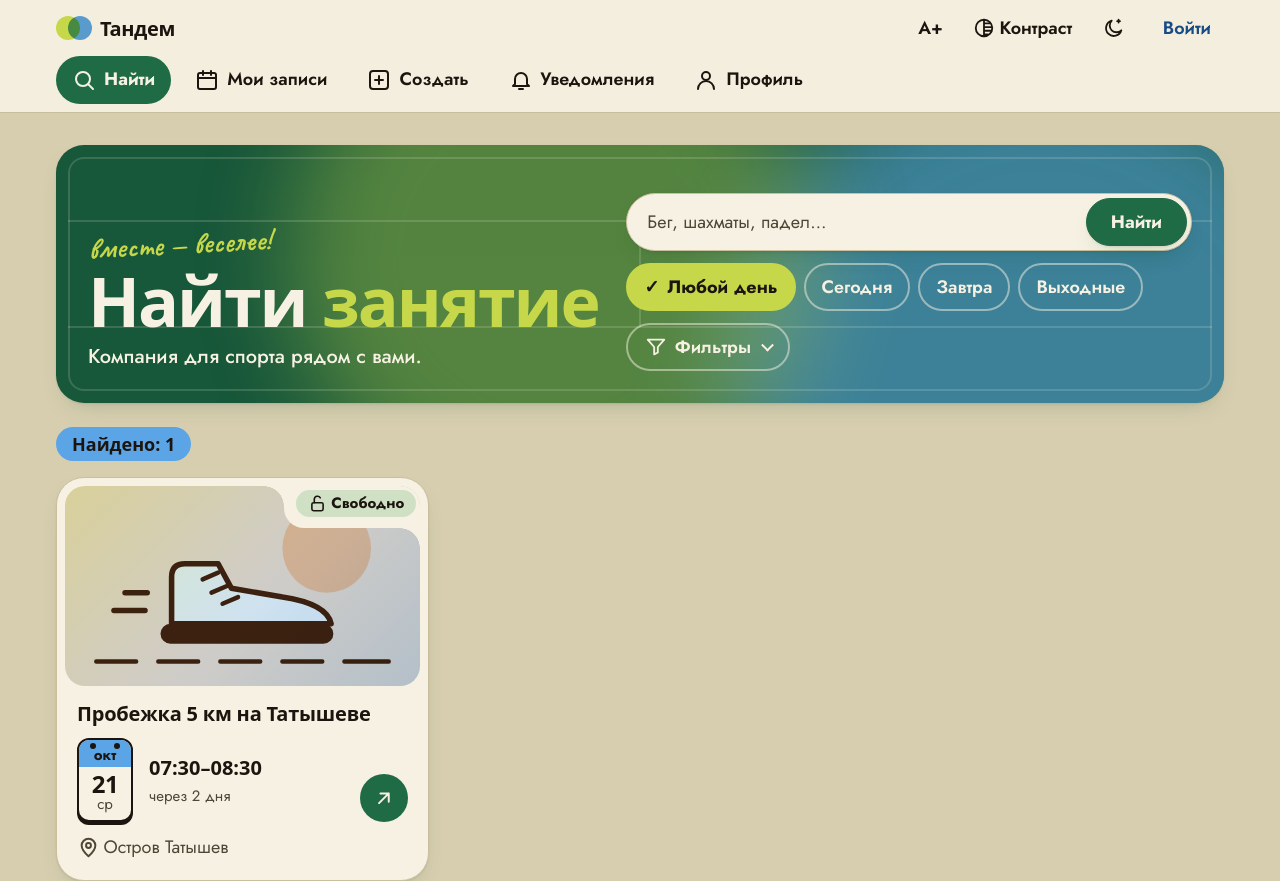
Test: лента и поиск › прочие фильтры свёрнуты; включённые видны числом на «Фильтрах»
This screenshot has width=1280, height=881.
Step 1. Click the heading "Фильтры" → click(708, 347), box [626, 323, 790, 371]
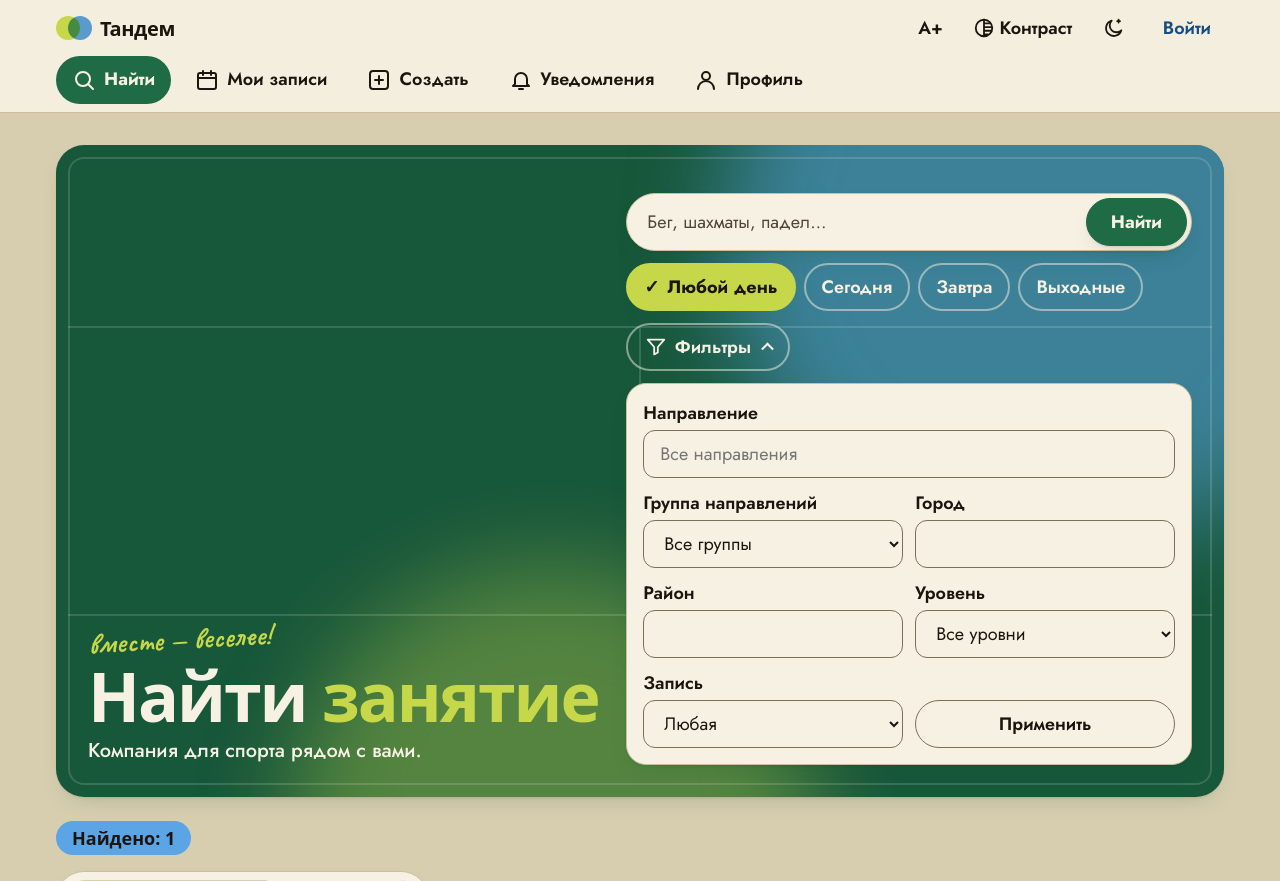
Step 2. Select "Новичок" in the dropdown labelled "Уровень" → (1045, 634), box [915, 610, 1175, 658]
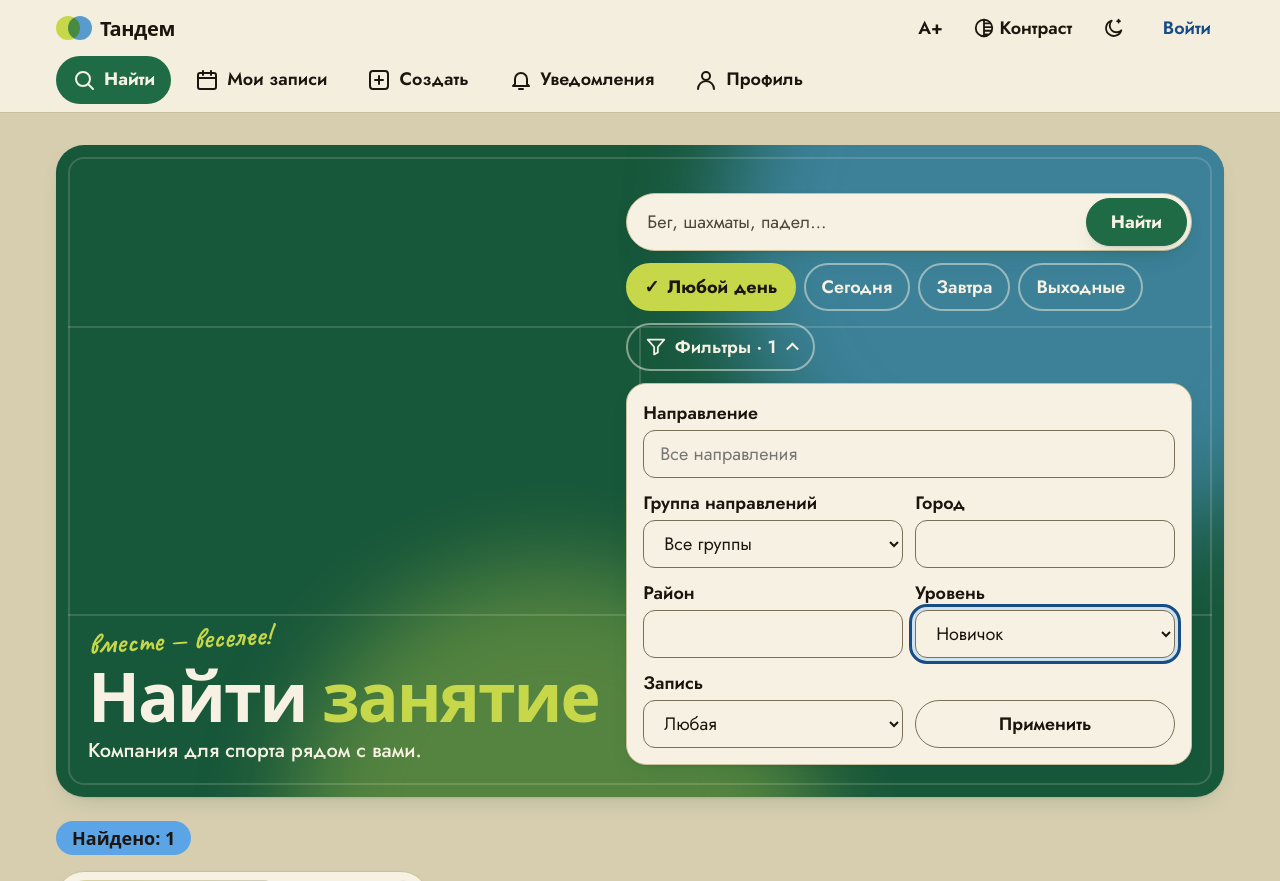
Step 3. Select "Зимние" in the dropdown labelled "Группа направлений" → (773, 544), box [643, 520, 903, 568]
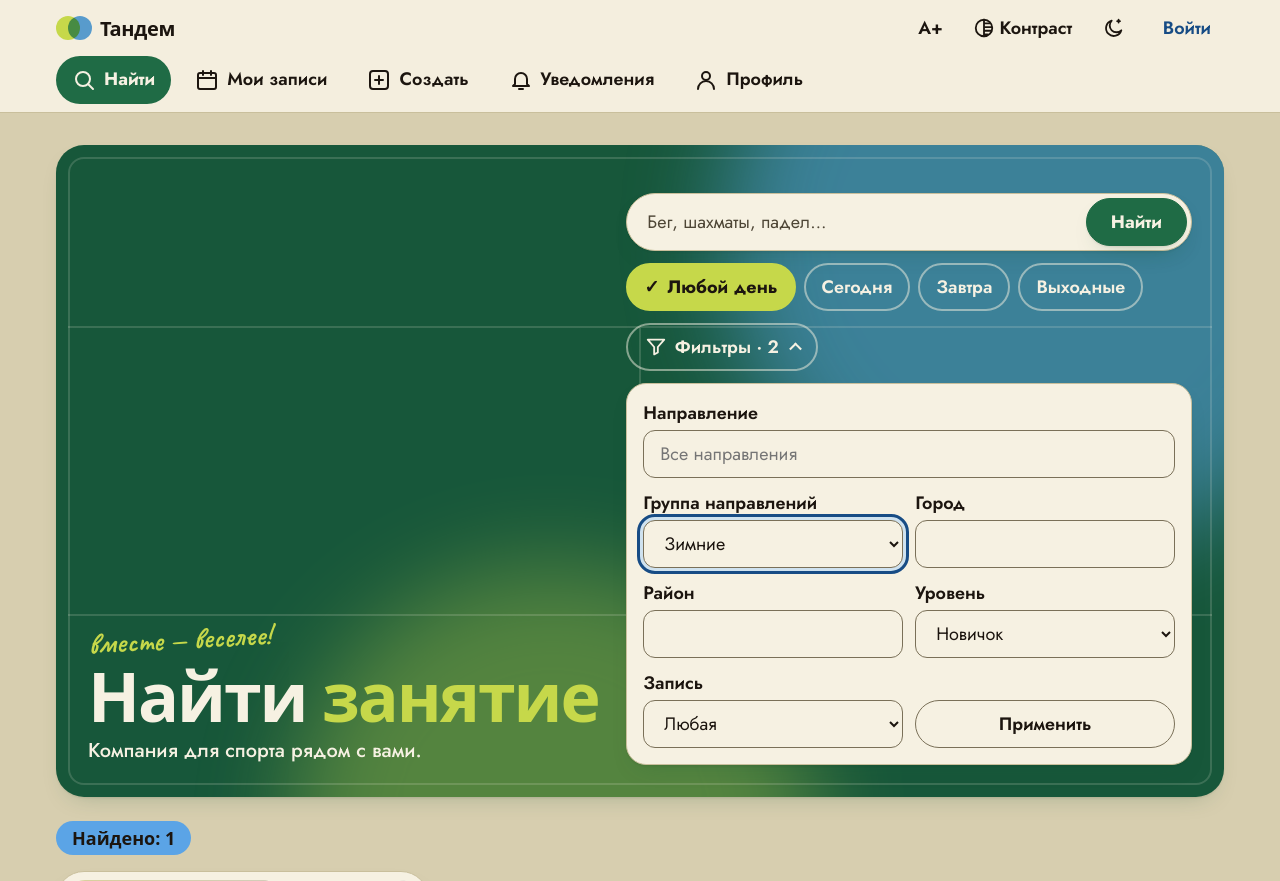
Step 4. Type "Центральный" into the field labelled "Район" → (773, 634), box [643, 610, 903, 658]
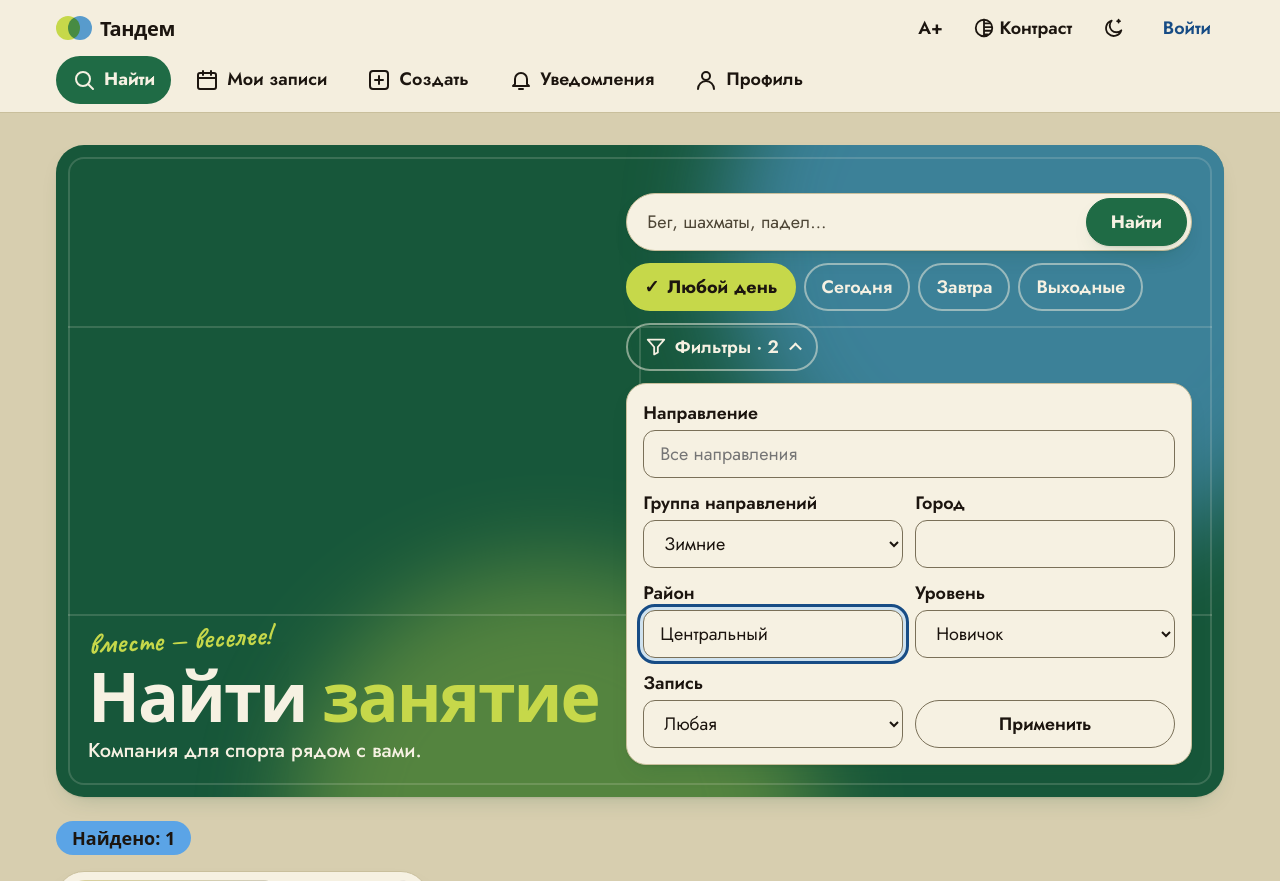
Step 5. Click the button "Применить" → click(1045, 724), box [915, 700, 1175, 748]
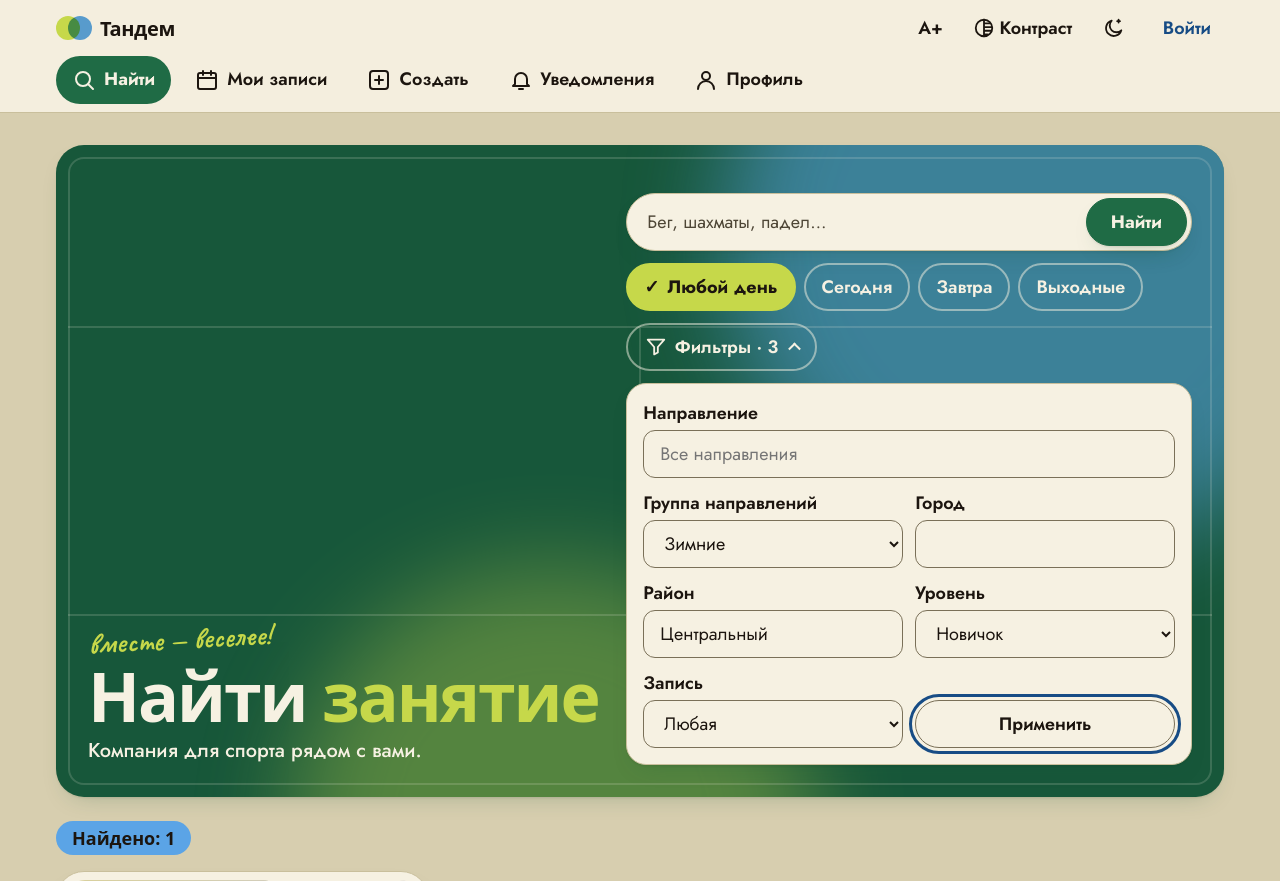
Expected: the heading "Фильтры · 3" is shown, [626, 323, 817, 371]
